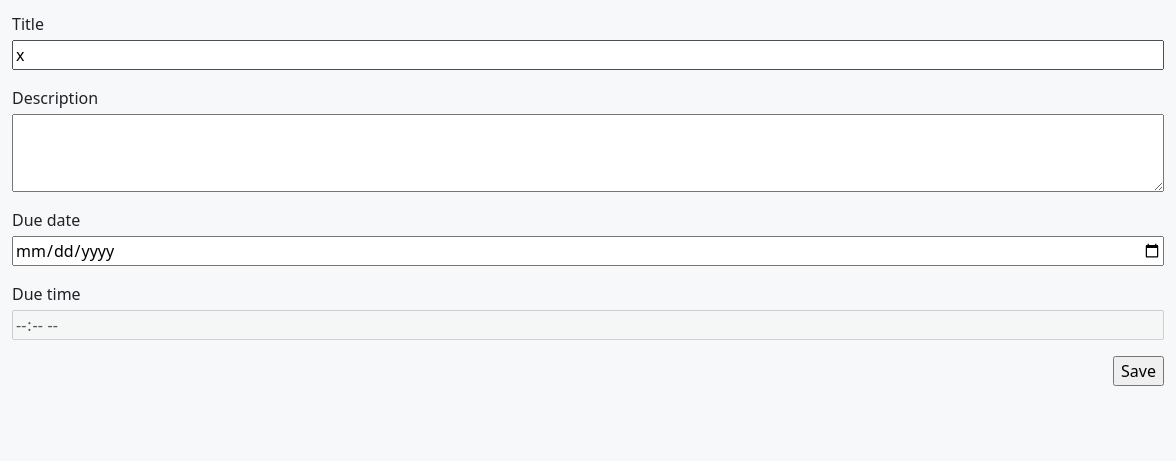
Test: TodoForm › shows a general error for non-validation failures and clears it on resubmit
This screenshot has width=1176, height=461.
Click the button "Save".
click(1139, 371)  # box x1=1113 y1=356 x2=1164 y2=386
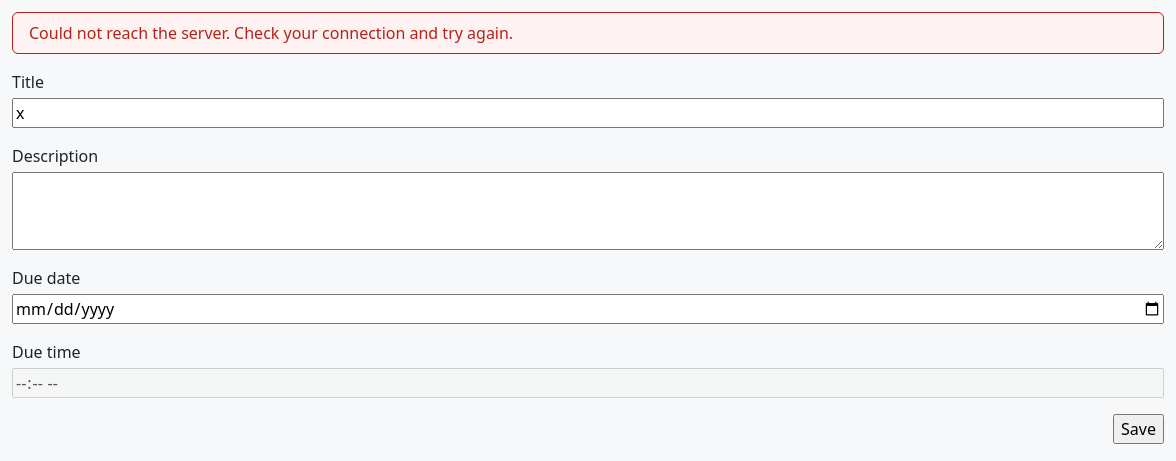
Check: the message shows "Could not reach the server", box x1=29 y1=22 x2=513 y2=44
Click the button "Save".
click(1139, 429)  # box x1=1113 y1=414 x2=1164 y2=444
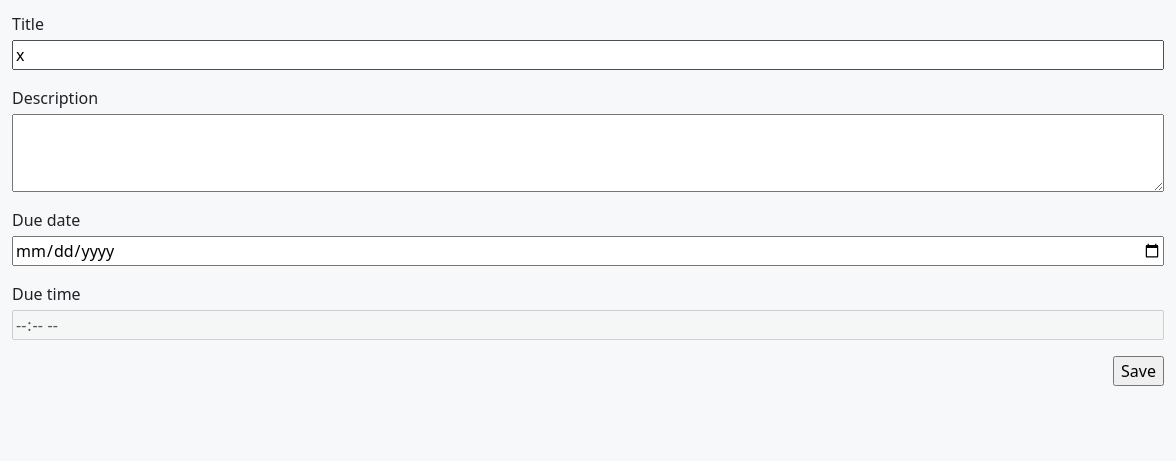
Check: the message "Could not reach the server. Check your connection and try again." is gone
